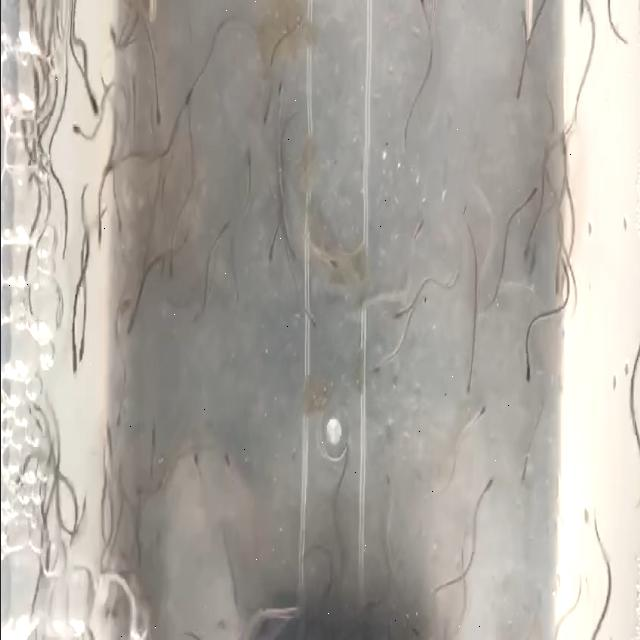active_glass_eel: (514, 350, 540, 412), (506, 51, 534, 105), (179, 55, 195, 145), (120, 288, 138, 356), (16, 231, 33, 301), (466, 393, 492, 438), (371, 463, 395, 509), (331, 437, 355, 483), (455, 362, 475, 412), (320, 238, 340, 288), (508, 456, 530, 500), (528, 167, 550, 206), (103, 15, 121, 62), (28, 55, 42, 115), (221, 428, 237, 479), (298, 294, 318, 334), (364, 354, 382, 396), (255, 106, 272, 150), (94, 462, 110, 506), (90, 216, 106, 260), (84, 85, 100, 127), (150, 98, 164, 146), (42, 452, 64, 482), (100, 145, 116, 184), (476, 466, 498, 494), (186, 435, 202, 472), (516, 230, 536, 257), (385, 296, 403, 326), (281, 246, 299, 276), (169, 236, 177, 302), (124, 58, 137, 98), (70, 115, 84, 151), (272, 74, 288, 104), (146, 416, 158, 456), (115, 406, 127, 444), (115, 203, 124, 250), (73, 489, 89, 514), (77, 338, 90, 366), (102, 415, 112, 449), (218, 222, 232, 246), (232, 284, 244, 310), (264, 243, 276, 267), (72, 340, 78, 388), (243, 138, 252, 168), (62, 223, 68, 267)
